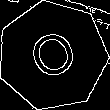O_SE: (22, 24, 83, 87)
